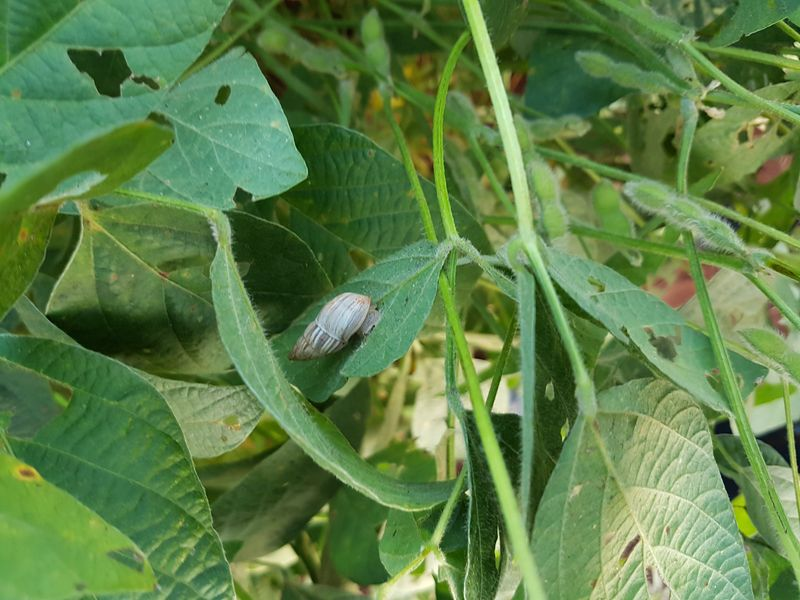Gastropoda: (281, 274, 389, 373)
